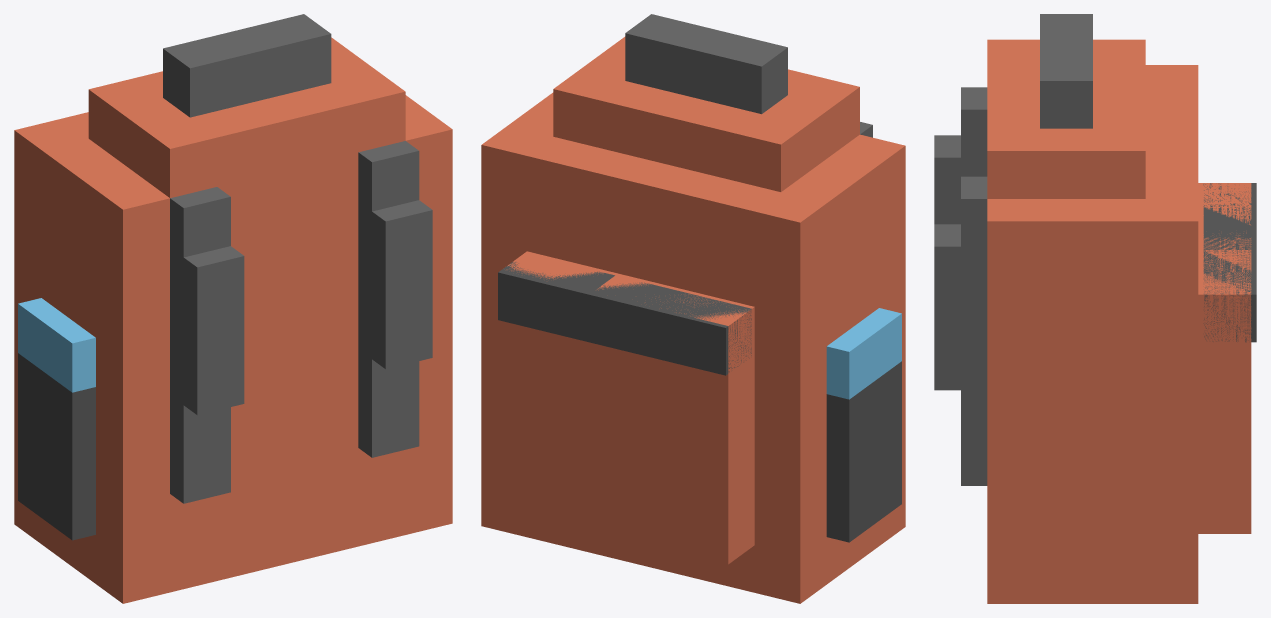
Rendered from backpack.fbx.
The picture shows the model from 3 angles, left to right: view 1: azimuth 30°, elevation 25°; view 2: azimuth 150°, elevation 25°; view 3: azimuth 270°, elevation 25°; orthographic projection. The views are drawn at different scales.
Visible parts, largest first — view 1: Student_Backpack; view 2: Student_Backpack; view 3: Student_Backpack.
Boxes of the visible parts, box(x1,y1,x2,y2) form: Student_Backpack: box(14, 14, 452, 603); Student_Backpack: box(481, 14, 905, 603); Student_Backpack: box(934, 14, 1256, 603).
Size of the model in its own units: 112 by 150 by 91.5.
